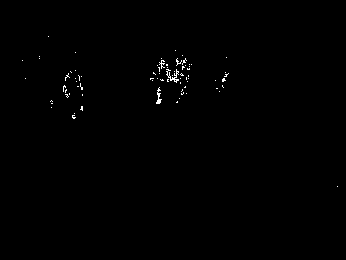person: (63, 68, 86, 119), (151, 59, 173, 106), (174, 55, 191, 101)
